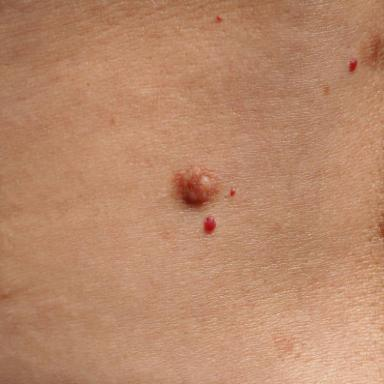Hemangiome: (204, 216, 216, 232)
